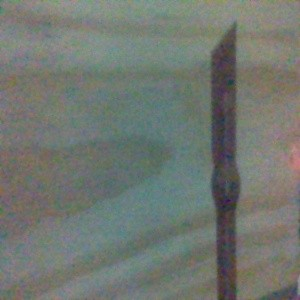cutter: (208, 20, 242, 300)
